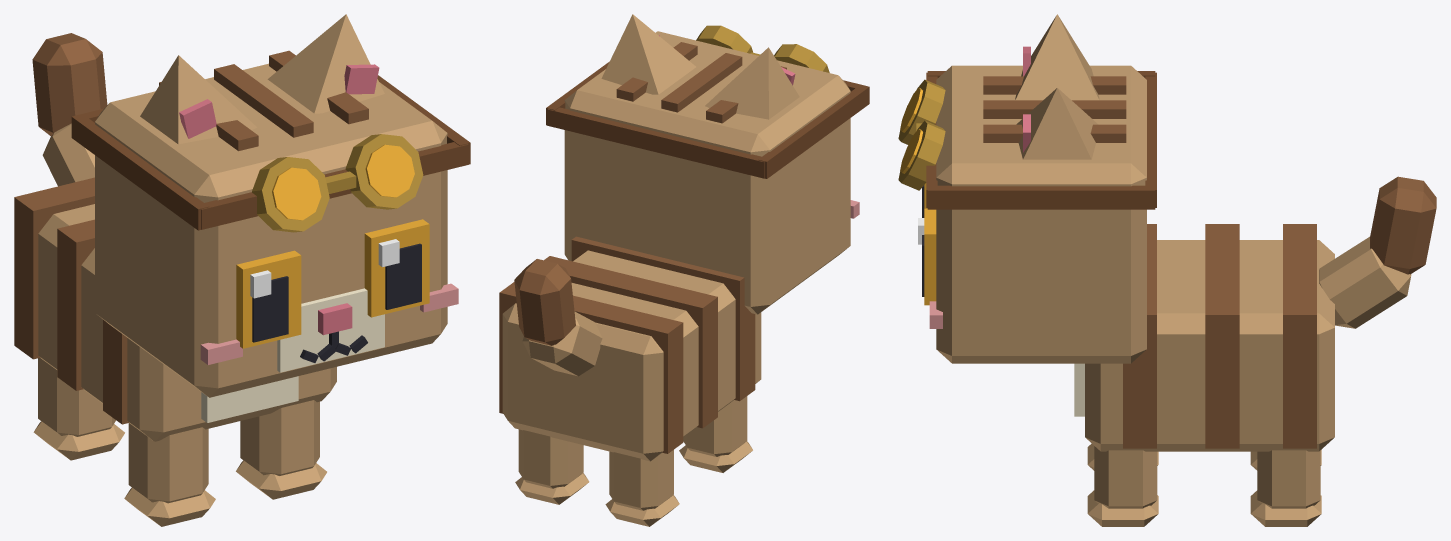
The model's file is CatCafe_Cat_Dune.glb.
3 renders of one model, left to right at view 1: azimuth 30°, elevation 25°; view 2: azimuth 150°, elevation 25°; view 3: azimuth 270°, elevation 25°, orthographic. The views are drawn at different scales.
Visible parts, largest first — view 1: CatCafe_Cat_Dune_Head, CatCafe_Cat_Dune_Body, CatCafe_Cat_Dune_Prop, CatCafe_Cat_Dune_Tail, CatCafe_Cat_Dune_LegF2, CatCafe_Cat_Dune_LegF1, CatCafe_Cat_Dune_EarL, CatCafe_Cat_Dune_Eye2, CatCafe_Cat_Dune_Eye1, CatCafe_Cat_Dune_LegB2, CatCafe_Cat_Dune_EarR; view 2: CatCafe_Cat_Dune_Head, CatCafe_Cat_Dune_Body, CatCafe_Cat_Dune_Prop, CatCafe_Cat_Dune_Tail, CatCafe_Cat_Dune_LegB2, CatCafe_Cat_Dune_LegB1, CatCafe_Cat_Dune_EarL, CatCafe_Cat_Dune_EarR, CatCafe_Cat_Dune_LegF2; view 3: CatCafe_Cat_Dune_Head, CatCafe_Cat_Dune_Body, CatCafe_Cat_Dune_Prop, CatCafe_Cat_Dune_Tail, CatCafe_Cat_Dune_LegF1, CatCafe_Cat_Dune_LegB1, CatCafe_Cat_Dune_EarR, CatCafe_Cat_Dune_EarL, CatCafe_Cat_Dune_Eye1.
Part boxes in pixels (x1,y1,x2,y2): CatCafe_Cat_Dune_Head: (95, 50, 458, 397); CatCafe_Cat_Dune_Body: (14, 177, 336, 441); CatCafe_Cat_Dune_Prop: (71, 75, 470, 232); CatCafe_Cat_Dune_Tail: (32, 33, 107, 186); CatCafe_Cat_Dune_LegF2: (124, 423, 215, 526); CatCafe_Cat_Dune_LegF1: (236, 400, 326, 499); CatCafe_Cat_Dune_EarL: (267, 14, 384, 113); CatCafe_Cat_Dune_Eye2: (236, 250, 301, 348); CatCafe_Cat_Dune_Eye1: (364, 219, 429, 317); CatCafe_Cat_Dune_LegB2: (33, 358, 124, 460); CatCafe_Cat_Dune_EarR: (140, 55, 256, 144); CatCafe_Cat_Dune_Head: (564, 31, 859, 314); CatCafe_Cat_Dune_Body: (499, 236, 761, 461); CatCafe_Cat_Dune_Prop: (546, 25, 869, 178); CatCafe_Cat_Dune_Tail: (514, 259, 602, 376); CatCafe_Cat_Dune_LegB2: (605, 450, 679, 526); CatCafe_Cat_Dune_LegB1: (515, 429, 589, 504); CatCafe_Cat_Dune_EarL: (601, 14, 695, 94); CatCafe_Cat_Dune_EarR: (705, 47, 799, 119); CatCafe_Cat_Dune_LegF2: (679, 396, 752, 472); CatCafe_Cat_Dune_Head: (929, 65, 1146, 363); CatCafe_Cat_Dune_Body: (1074, 224, 1334, 451); CatCafe_Cat_Dune_Prop: (898, 71, 1156, 209); CatCafe_Cat_Dune_Tail: (1319, 176, 1436, 328); CatCafe_Cat_Dune_LegF1: (1087, 446, 1158, 526); CatCafe_Cat_Dune_LegB1: (1250, 450, 1321, 526); CatCafe_Cat_Dune_EarR: (1015, 14, 1099, 100); CatCafe_Cat_Dune_EarL: (1016, 88, 1098, 159); CatCafe_Cat_Dune_Eye1: (918, 208, 936, 305).
Size of the model in its own units: 1.08 by 1.86 by 2.04.
1 material, 1 textured.
